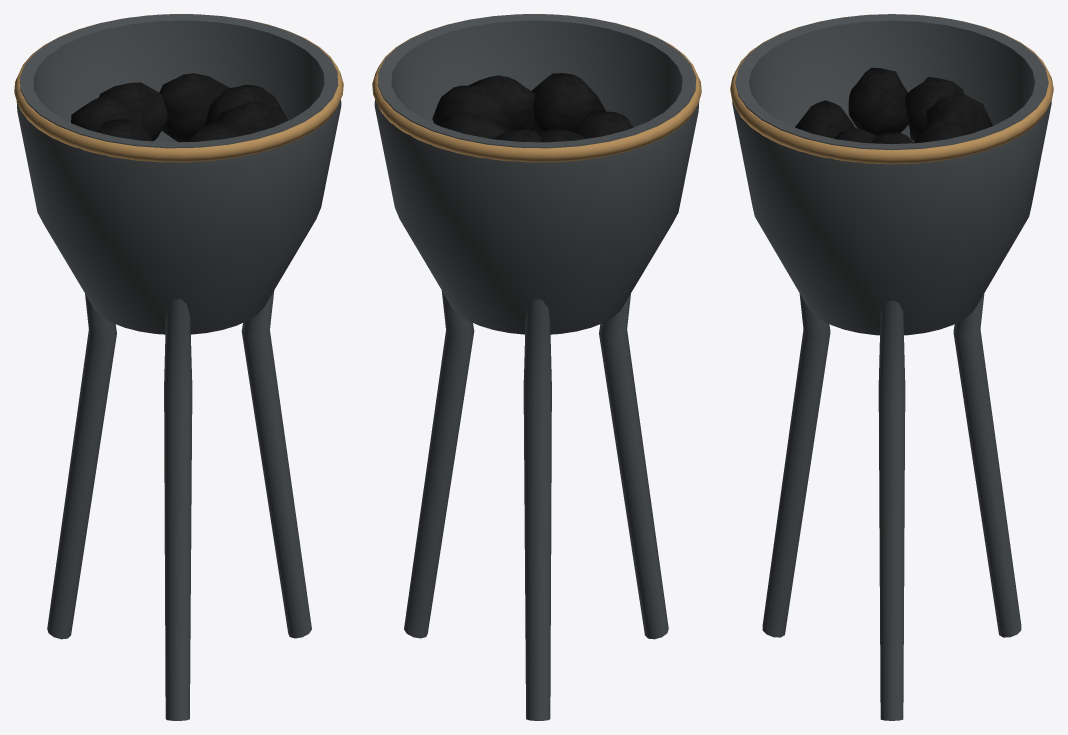
File: brazier.glb
3 renders of one model, left to right at view 1: azimuth 30°, elevation 25°; view 2: azimuth 150°, elevation 25°; view 3: azimuth 270°, elevation 25°, orthographic.
Parts seen in each view (by area): view 1: brazier; view 2: brazier; view 3: brazier.
Part boxes in pixels (x1,y1,x2,y2): brazier: [14, 14, 343, 720]; brazier: [372, 14, 701, 720]; brazier: [730, 14, 1053, 720].
Size of the model in its own units: 0.428 by 0.831 by 0.4192.
Materials: 3 (1 with a texture image).
